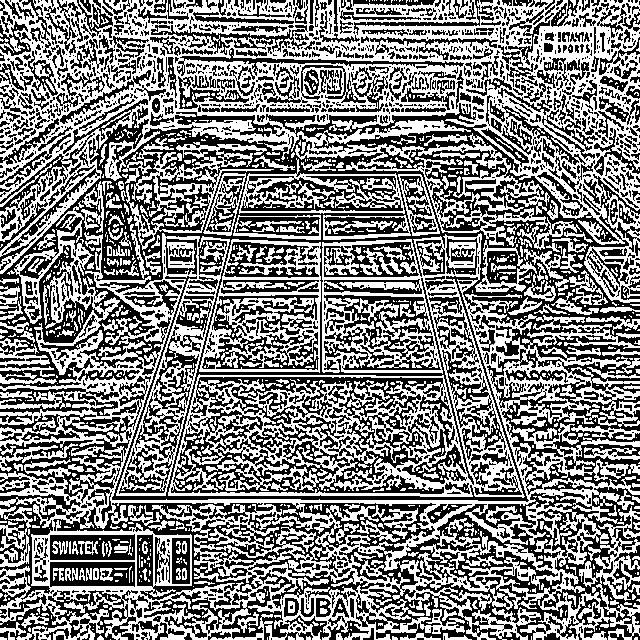left side: (113, 171, 248, 498), (397, 172, 527, 499)
player: (425, 402, 480, 496), (289, 132, 307, 176)
